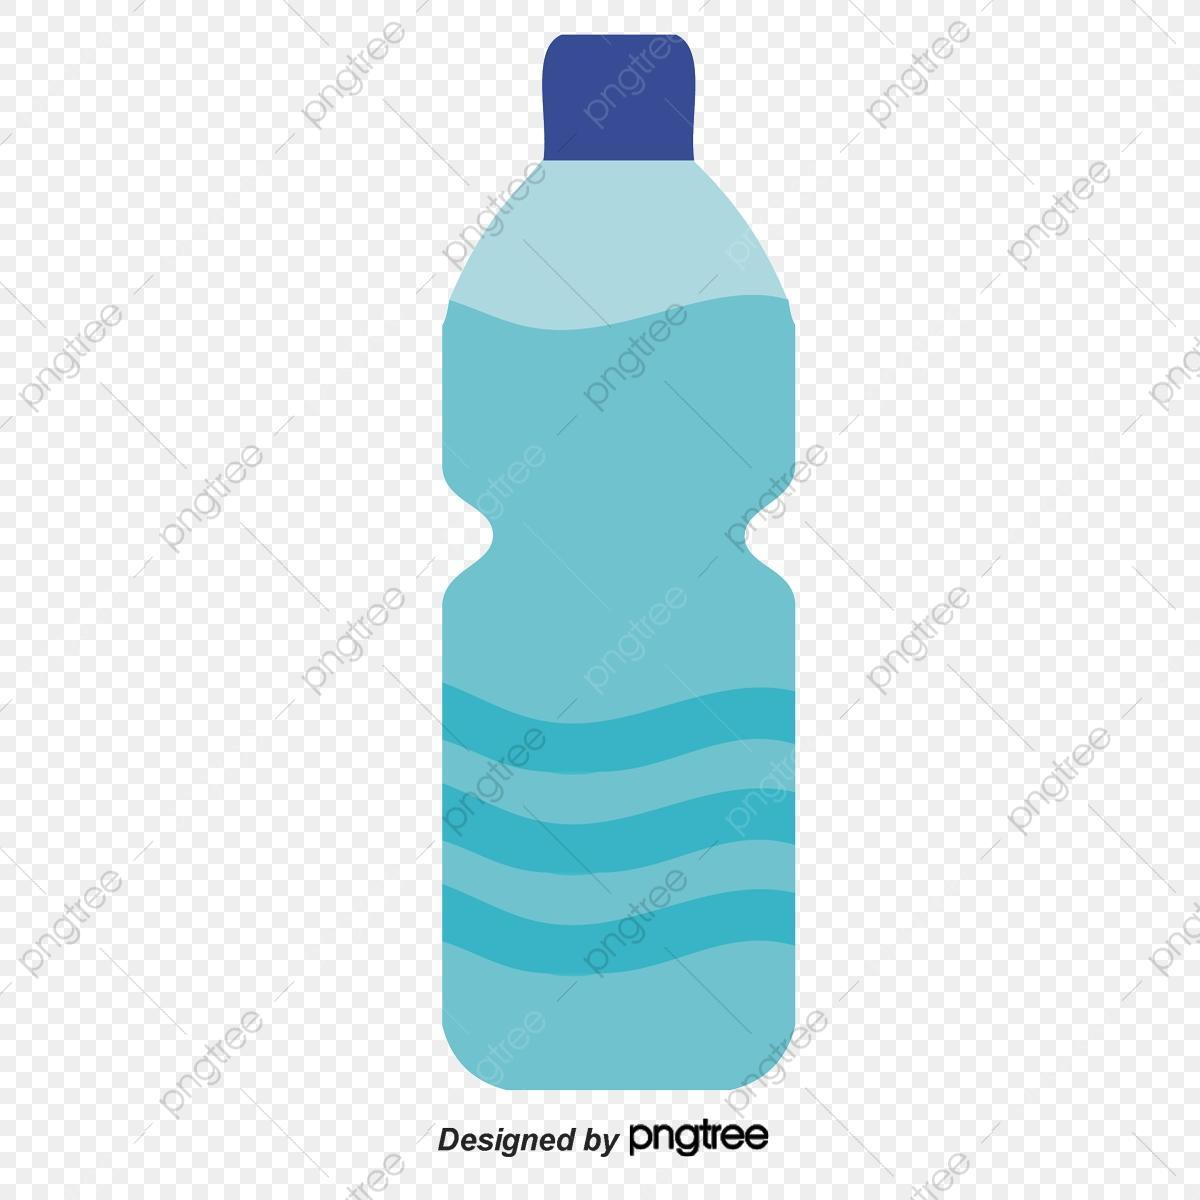bottle: (434, 30, 791, 1112)
